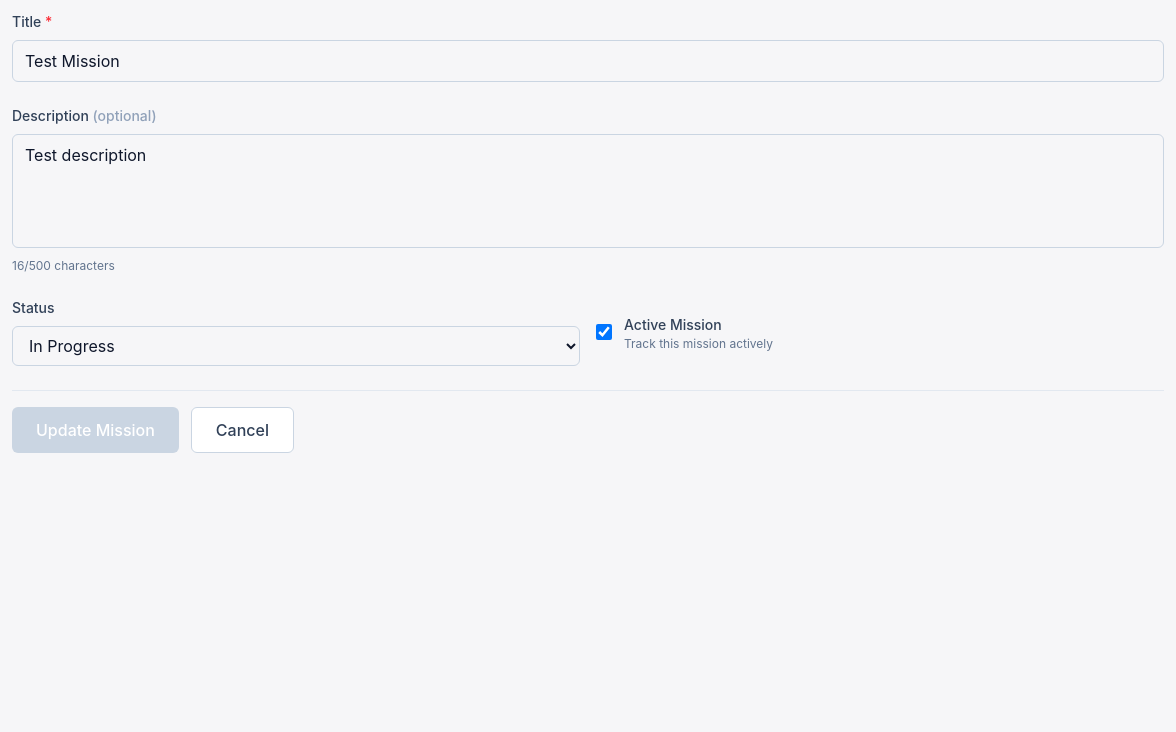
Test: MissionForm › enables submit button when form is dirty
The width and height of the screenshot is (1176, 732).
Replace the text in the field labelled "Title *" with "Updated" at (588, 61), box [12, 40, 1164, 82]
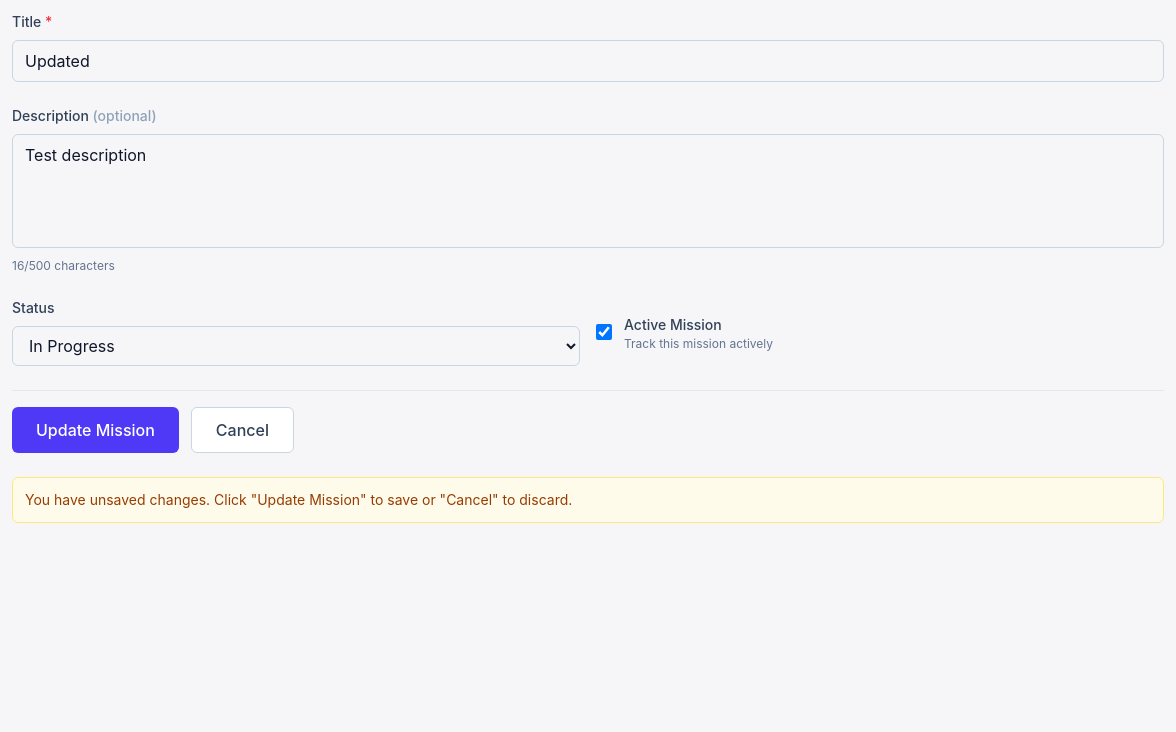
Expected: the button "Update Mission" is enabled, [12, 407, 179, 453]
